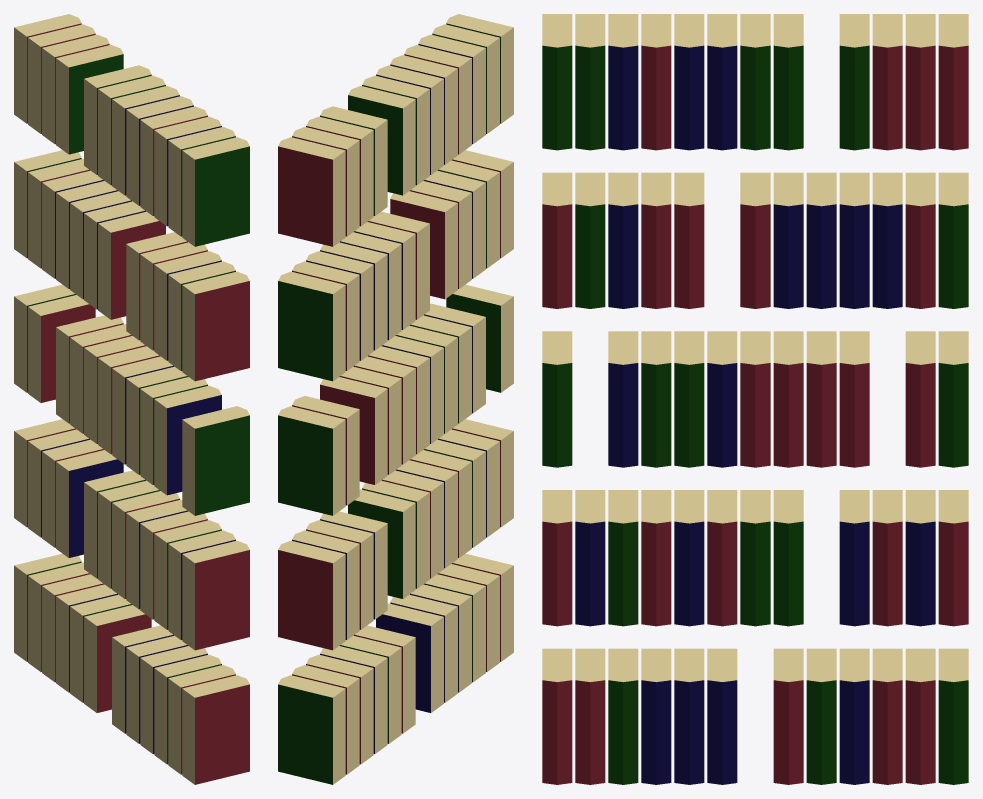
The model's file is Bookshelf_Books_Negative.fbx.
3 renders of one model, left to right at view 1: azimuth 30°, elevation 25°; view 2: azimuth 150°, elevation 25°; view 3: azimuth 270°, elevation 25°, orthographic. The views are drawn at different scales.
Parts seen in each view (by area): view 1: Books; view 2: Books; view 3: Books.
Part boxes in pixels (<box>): Books: <box>14,14,249,784</box>; Books: <box>278,14,513,784</box>; Books: <box>542,14,968,784</box>.
Size of the model in its own units: 17.27 by 177 by 92.54.
